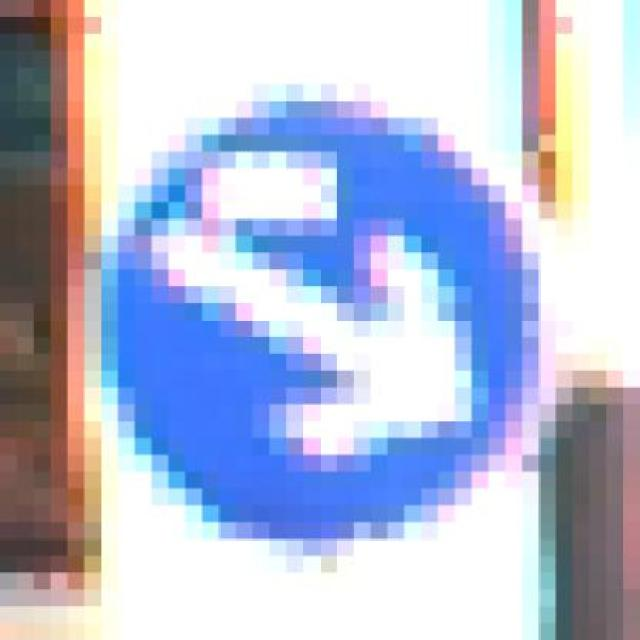Keep-Right: (84, 84, 590, 539)
